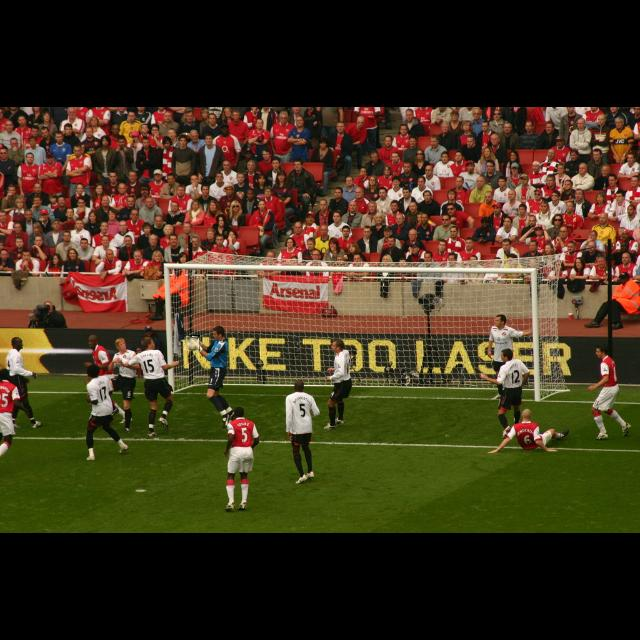Football: (184, 335, 200, 351)
